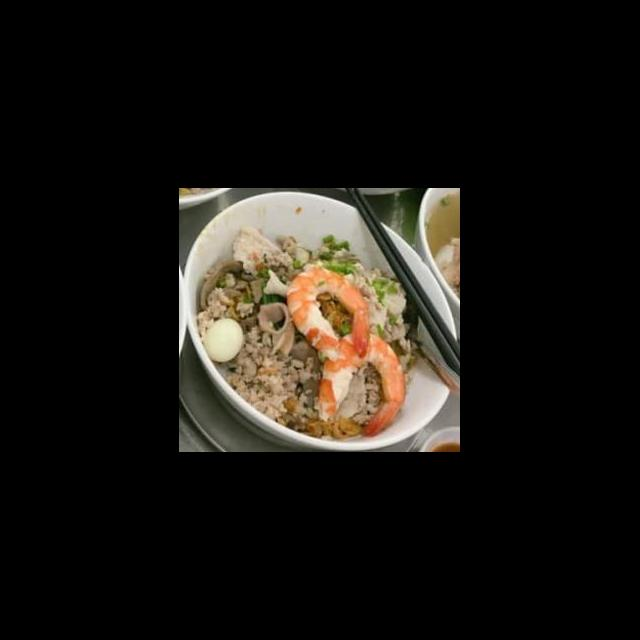thit bam: (220, 323, 324, 427), (194, 281, 258, 342)
thit heo: (342, 259, 409, 331), (230, 221, 294, 279)
tom: (310, 329, 410, 440), (284, 265, 378, 365)
trung: (198, 316, 246, 364)
